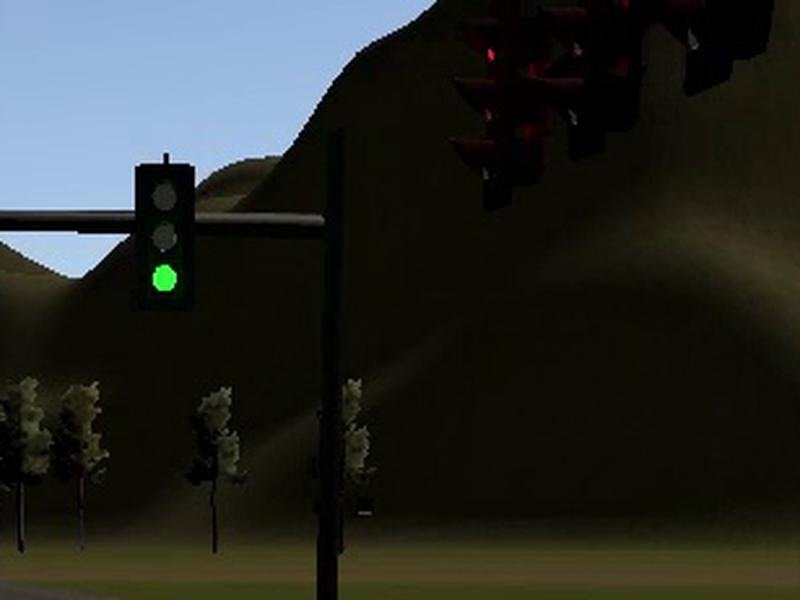Green: (133, 163, 193, 308)
